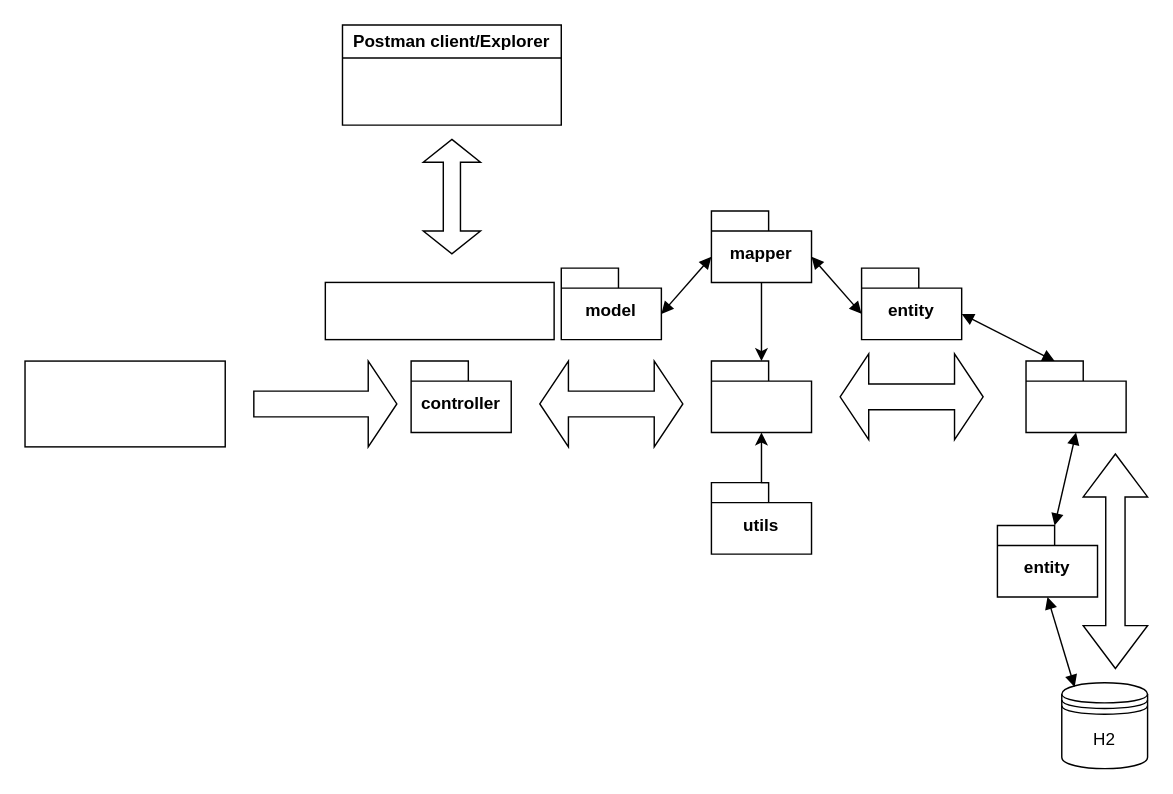
This 1173x794 diagram has some shape labels left out. The box of each missing label's shape, as (x1, y1, x2, y2) in pixels:
repository: (1025, 360, 1126, 433)
Security Basic Auth: (324, 281, 554, 340)
service: (710, 360, 812, 433)
UserApplication Spring Boot Application Run Class: (24, 360, 225, 447)
